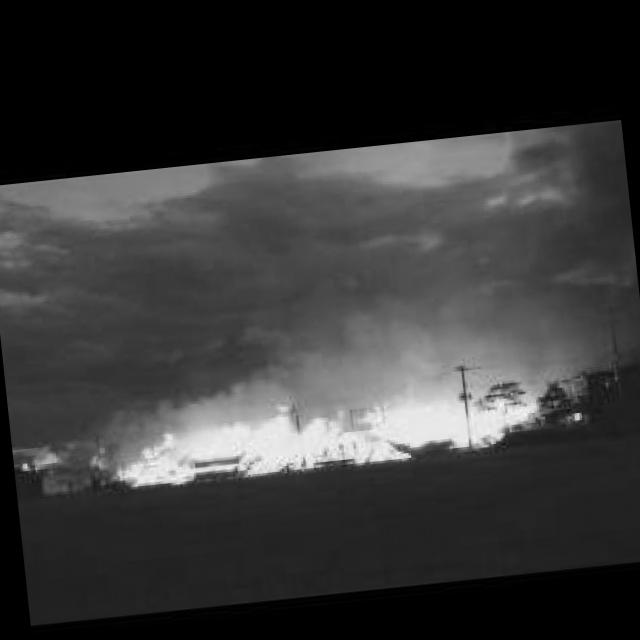fire: (106, 372, 545, 490), (20, 444, 66, 473), (85, 445, 108, 469), (571, 410, 580, 421)
smoke: (170, 246, 622, 429)
